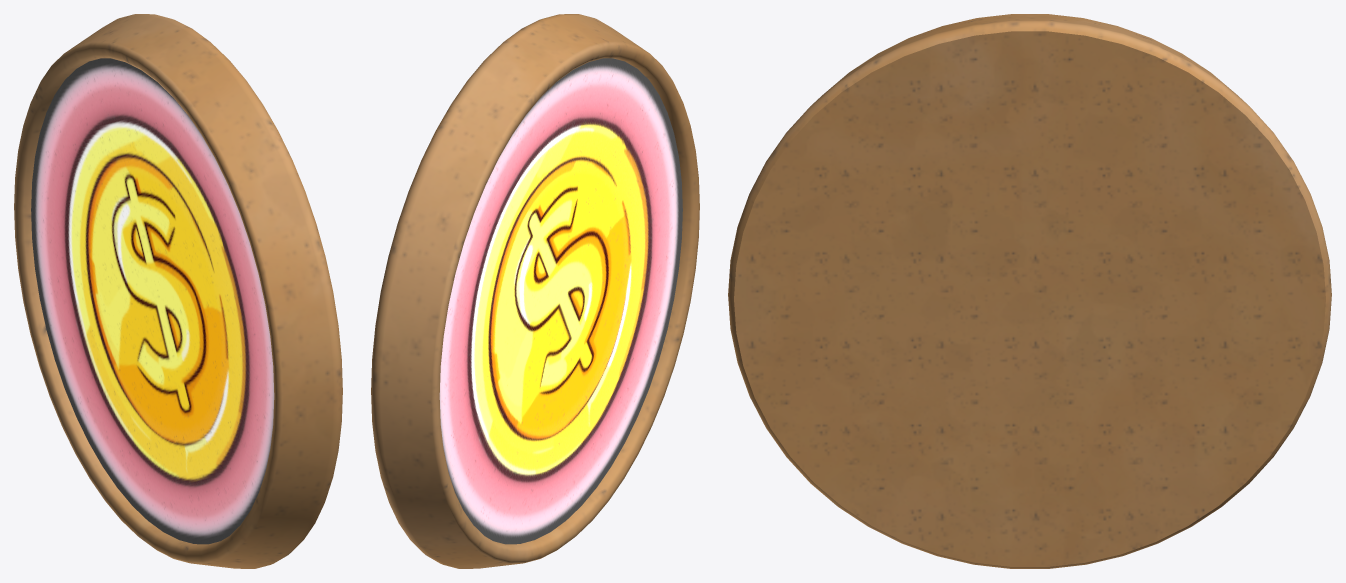
Rendered from SM_GamesSigns_01.fbx.
3 renders of one model, left to right at view 1: azimuth 30°, elevation 25°; view 2: azimuth 150°, elevation 25°; view 3: azimuth 270°, elevation 25°, orthographic. The views are drawn at different scales.
Visible parts, largest first — view 1: SM_GamesSigns_01_LOD0; view 2: SM_GamesSigns_01_LOD0; view 3: SM_GamesSigns_01_LOD0.
Boxes of the visible parts, x1,y1,x2,y2 form: SM_GamesSigns_01_LOD0: (14, 14, 342, 568); SM_GamesSigns_01_LOD0: (371, 14, 699, 568); SM_GamesSigns_01_LOD0: (728, 14, 1331, 568).
Bounding box in the file's own units: 11.97 × 102 × 102.
Materials: 1 (1 with a texture image).
